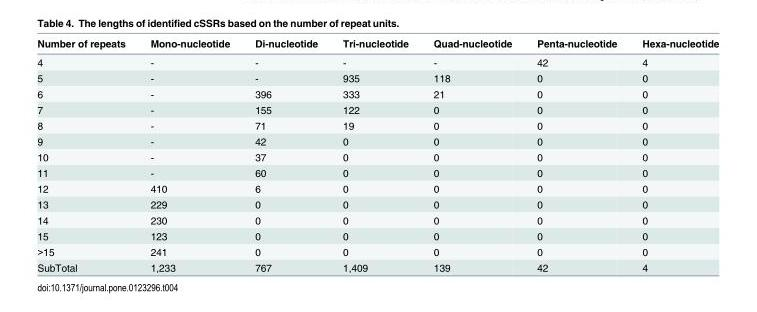table: (36, 36, 718, 272)
table column: (523, 36, 628, 272), (137, 36, 241, 272), (420, 36, 523, 272), (36, 36, 137, 272), (329, 36, 420, 272), (628, 36, 718, 272), (241, 36, 329, 272)
table column header: (36, 36, 718, 52)
table row: (36, 52, 718, 69), (36, 36, 718, 52), (36, 69, 718, 85), (36, 85, 718, 101), (36, 101, 718, 117), (36, 132, 718, 148), (36, 148, 718, 164), (36, 164, 718, 180), (36, 180, 718, 196), (36, 211, 718, 227), (36, 227, 718, 243), (36, 243, 718, 259), (36, 117, 718, 132), (36, 196, 718, 211), (36, 259, 718, 272)
